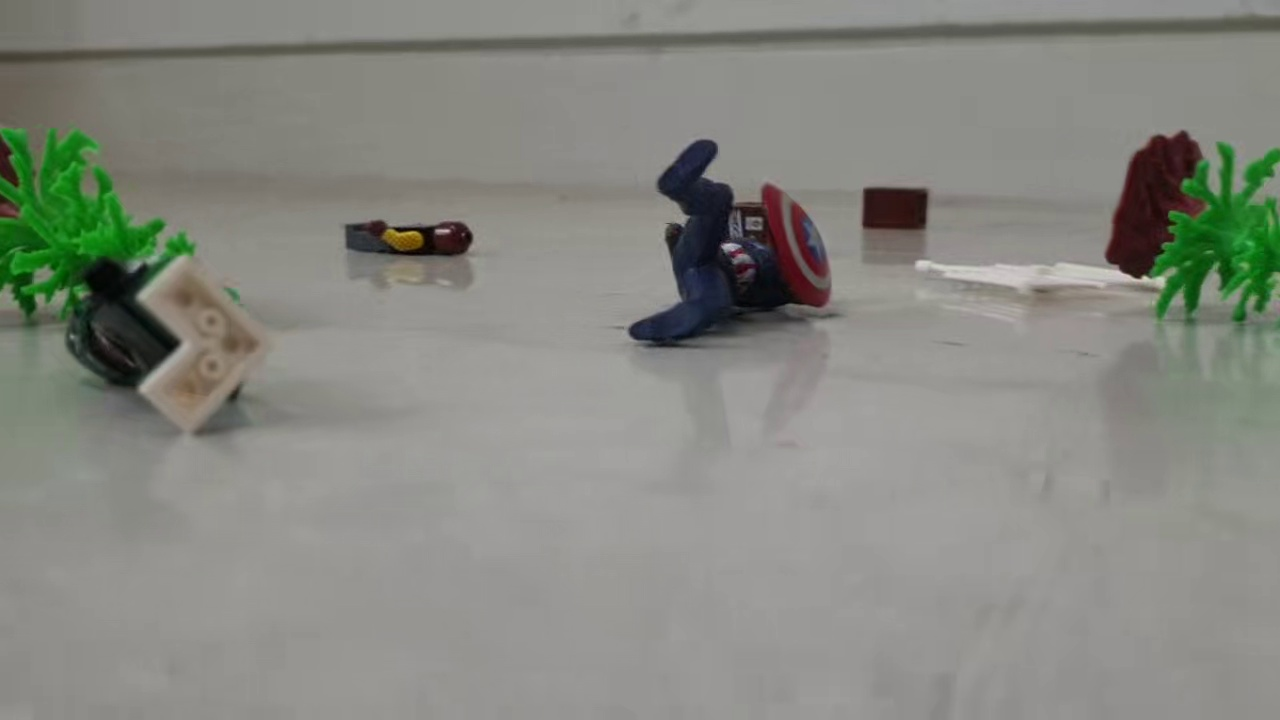box: (857, 185, 931, 234)
people: (619, 137, 839, 345), (62, 251, 274, 432), (344, 218, 476, 262)
tree: (1, 121, 246, 319), (1103, 129, 1280, 324)
web: (908, 249, 1174, 301)
